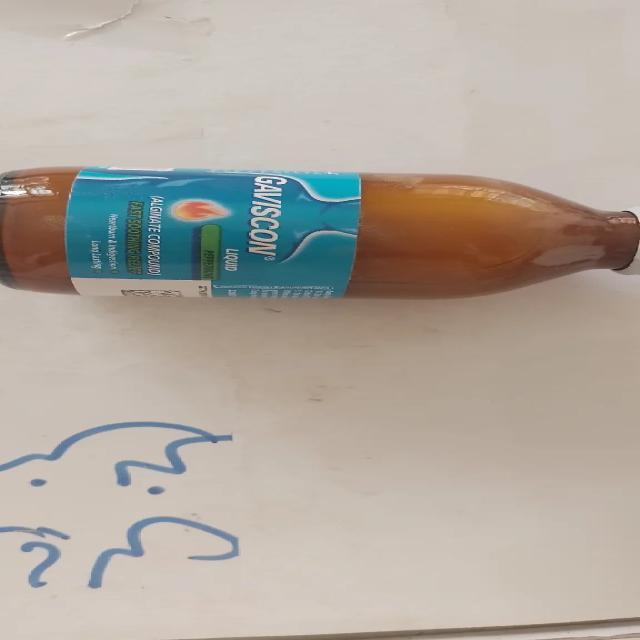drug-name: (246, 175, 286, 258)
